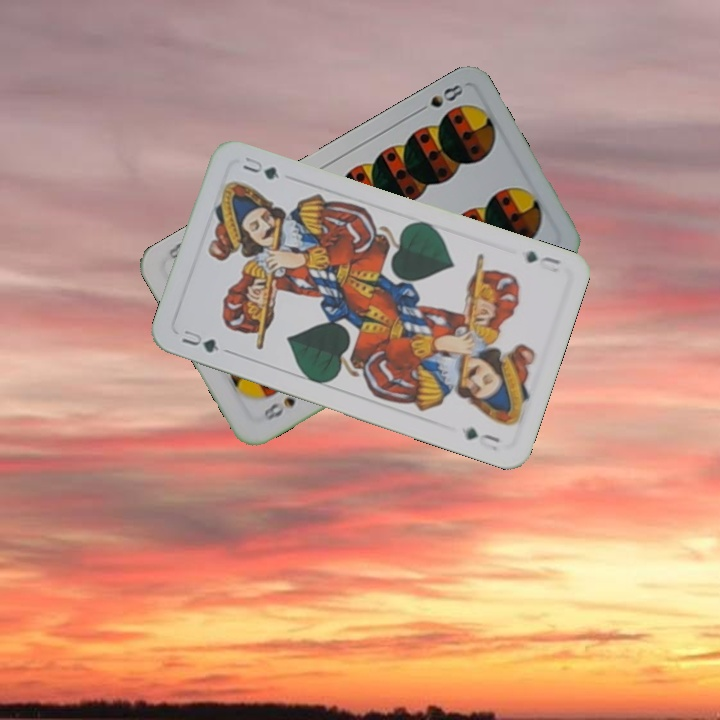GU: (177, 325, 222, 356), (521, 247, 564, 275)
S8: (411, 80, 466, 117), (259, 392, 298, 424)
